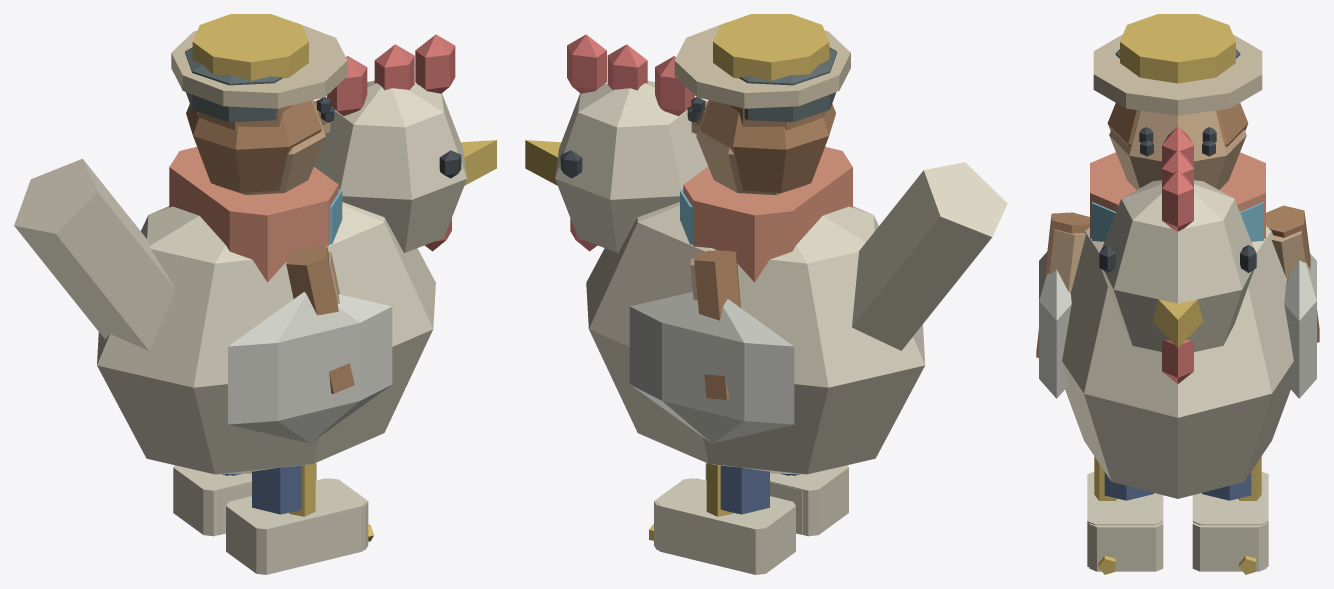
The model's file is living-island.glb.
The picture shows the model from 3 angles, left to right: view 1: azimuth 30°, elevation 25°; view 2: azimuth 150°, elevation 25°; view 3: azimuth 270°, elevation 25°; orthographic projection.
Visible parts, largest first — view 1: living_53_0, living_52_0, living_52_1; view 2: living_53_0, living_52_0, living_52_1; view 3: living_53_0, living_52_1, living_52_0.
Part boxes in pixels (x1,y1,x2,y2): living_53_0: (14,34,496,541); living_52_0: (169,47,365,574); living_52_1: (171,14,368,550); living_53_0: (525,34,1007,540); living_52_0: (657,47,852,574); living_52_1: (654,14,850,550); living_53_0: (1039,127,1316,574); living_52_1: (1049,14,1305,571); living_52_0: (1036,49,1319,566).
Size of the model in its own units: 1 by 1 by 0.5162.
